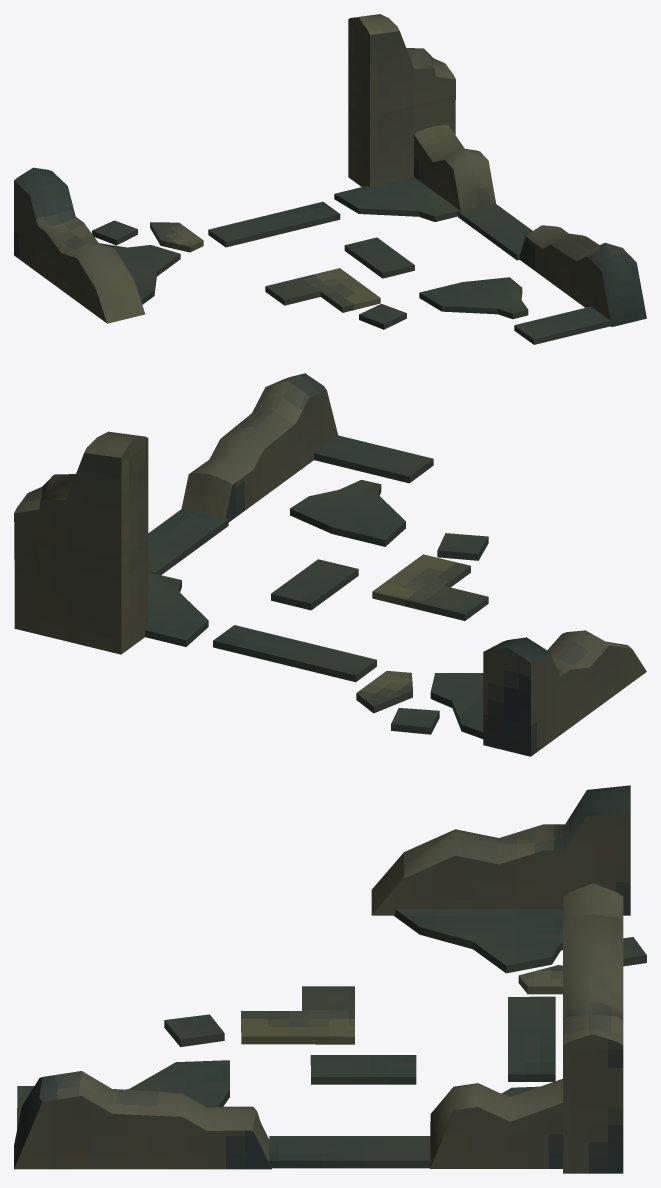
The model's file is ruins_01.FBX.
3 renders of one model, top to bottom at view 1: azimuth 30°, elevation 25°; view 2: azimuth 150°, elevation 25°; view 3: azimuth 270°, elevation 25°, orthographic. The views are drawn at different scales.
Parts seen in each view (by area): view 1: Box024; view 2: Box024; view 3: Box024.
Boxes of the visible parts, bbox=[...] form: Box024: bbox=[14, 14, 646, 344]; Box024: bbox=[14, 373, 646, 756]; Box024: bbox=[14, 785, 646, 1173].
Size of the model in its own units: 732 by 280 by 692.
